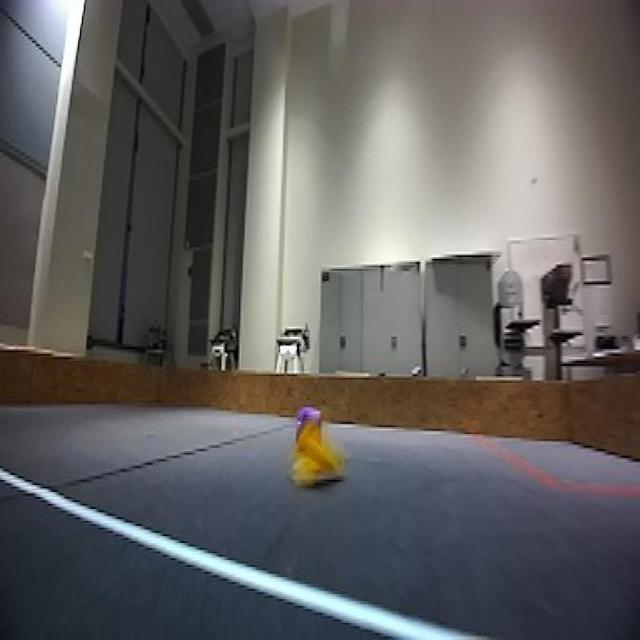frc_cone: (296, 403, 343, 492)
frc_cube: (293, 395, 324, 446)
